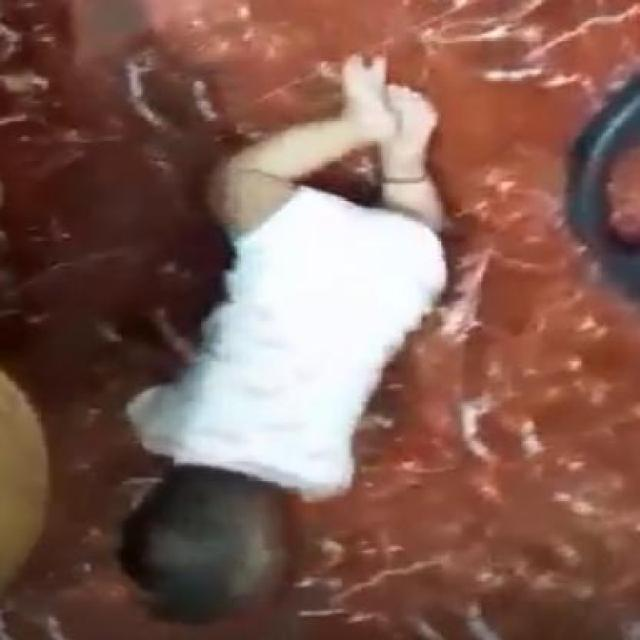non-dog: (95, 47, 446, 634)
